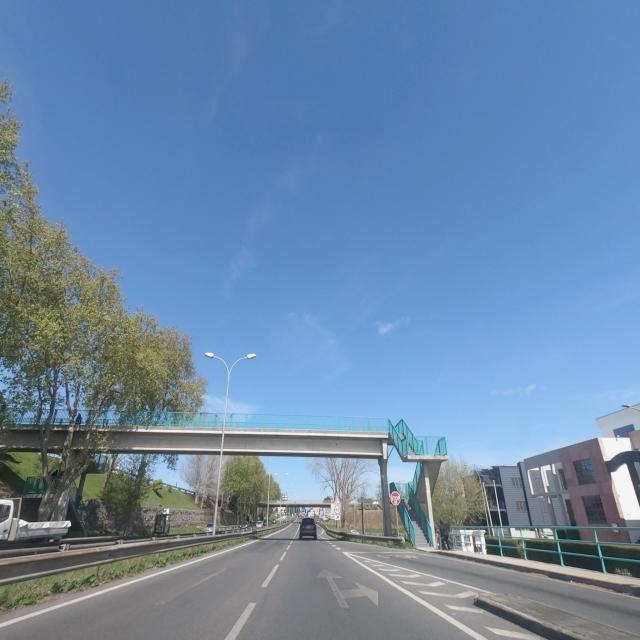car: (298, 516, 318, 540), (203, 522, 219, 534), (255, 520, 264, 530)
